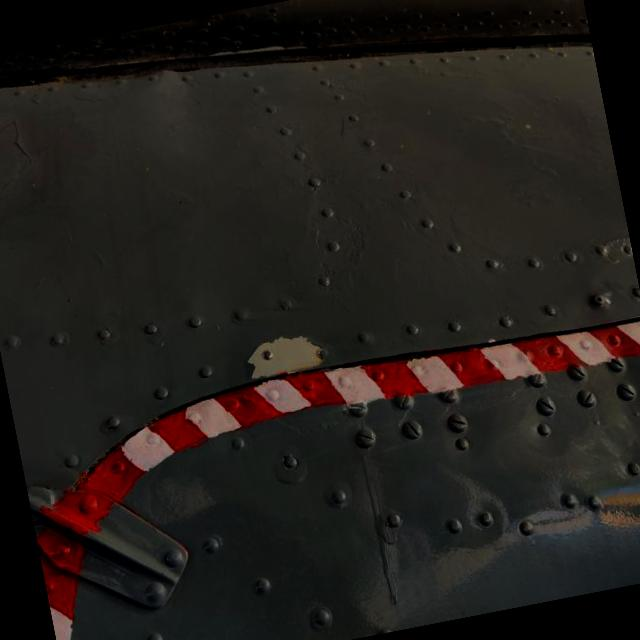paint-off: (228, 312, 338, 394)
